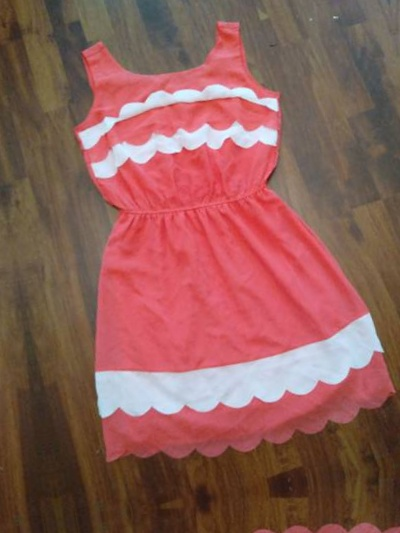Dress: (18, 0, 400, 488), (103, 491, 400, 533), (0, 69, 17, 533)
